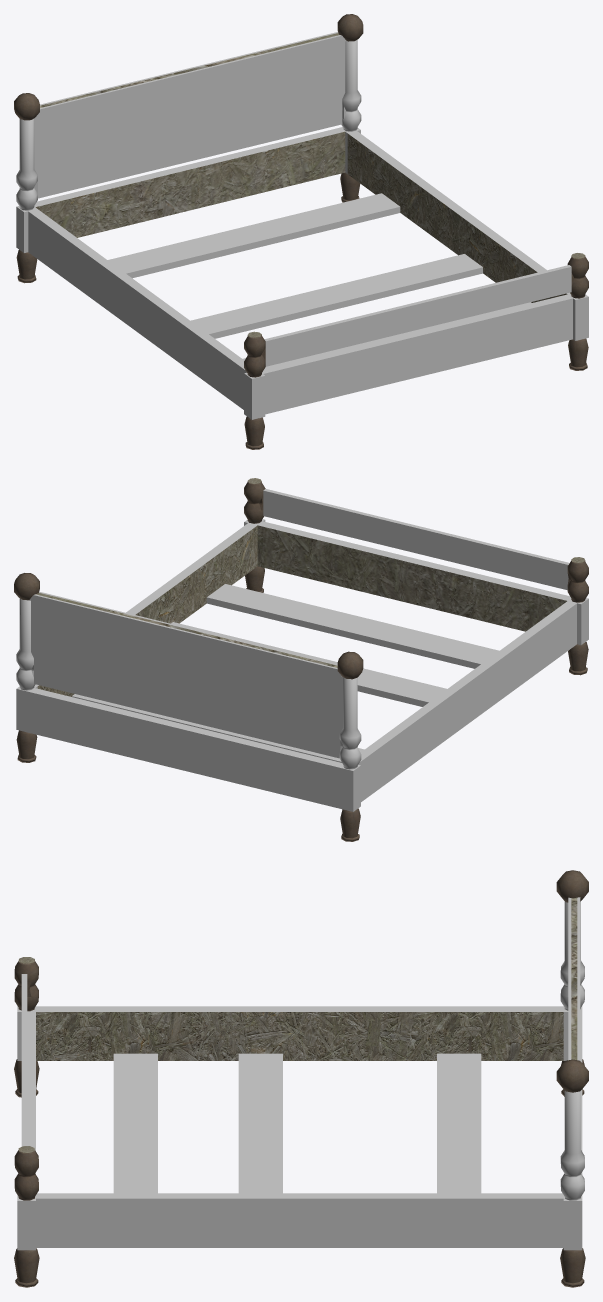
File: BedFrameAFull.fbx
3 views of the same model, one above another, from view 1: azimuth 30°, elevation 25°; view 2: azimuth 150°, elevation 25°; view 3: azimuth 270°, elevation 25° (orthographic). The views are drawn at different scales.
Parts seen in each view (by area): view 1: BedFrameAFull; view 2: BedFrameAFull; view 3: BedFrameAFull.
Part boxes in pixels (x1=…): BedFrameAFull: x1=14, y1=14, x2=588, y2=449; BedFrameAFull: x1=14, y1=478, x2=588, y2=841; BedFrameAFull: x1=14, y1=870, x2=588, y2=1287.
Size of the model in its own units: 236 by 120 by 283.
